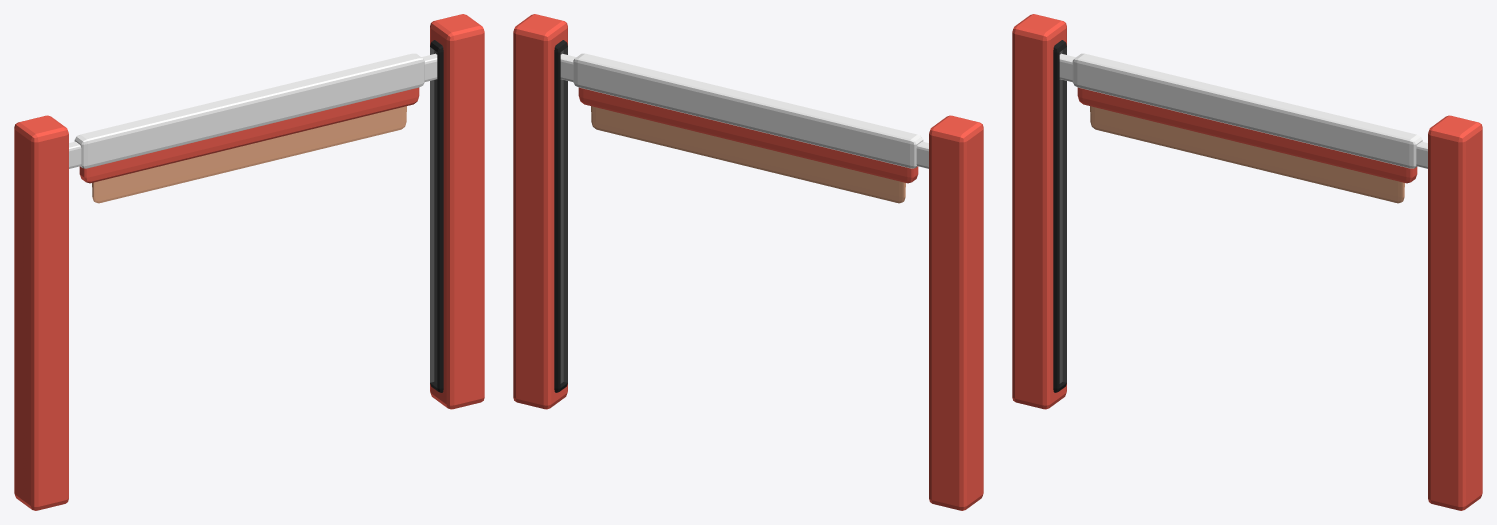
File: Barrier_2.fbx
3 renders of one model, left to right at view 1: azimuth 30°, elevation 25°; view 2: azimuth 150°, elevation 25°; view 3: azimuth 330°, elevation 25°, orthographic.
Parts seen in each view (by area): view 1: Barrier, Barrier_Up; view 2: Barrier, Barrier_Up; view 3: Barrier, Barrier_Up.
Boxes of the visible parts, left/top/right/bottom form: Barrier: left=14, top=14, right=484, bottom=510; Barrier_Up: left=69, top=53, right=437, bottom=203; Barrier: left=513, top=14, right=983, bottom=510; Barrier_Up: left=560, top=53, right=928, bottom=203; Barrier: left=1012, top=14, right=1482, bottom=510; Barrier_Up: left=1059, top=53, right=1427, bottom=203.
Bounding box in the file's own units: 392 × 312 × 32.57.
